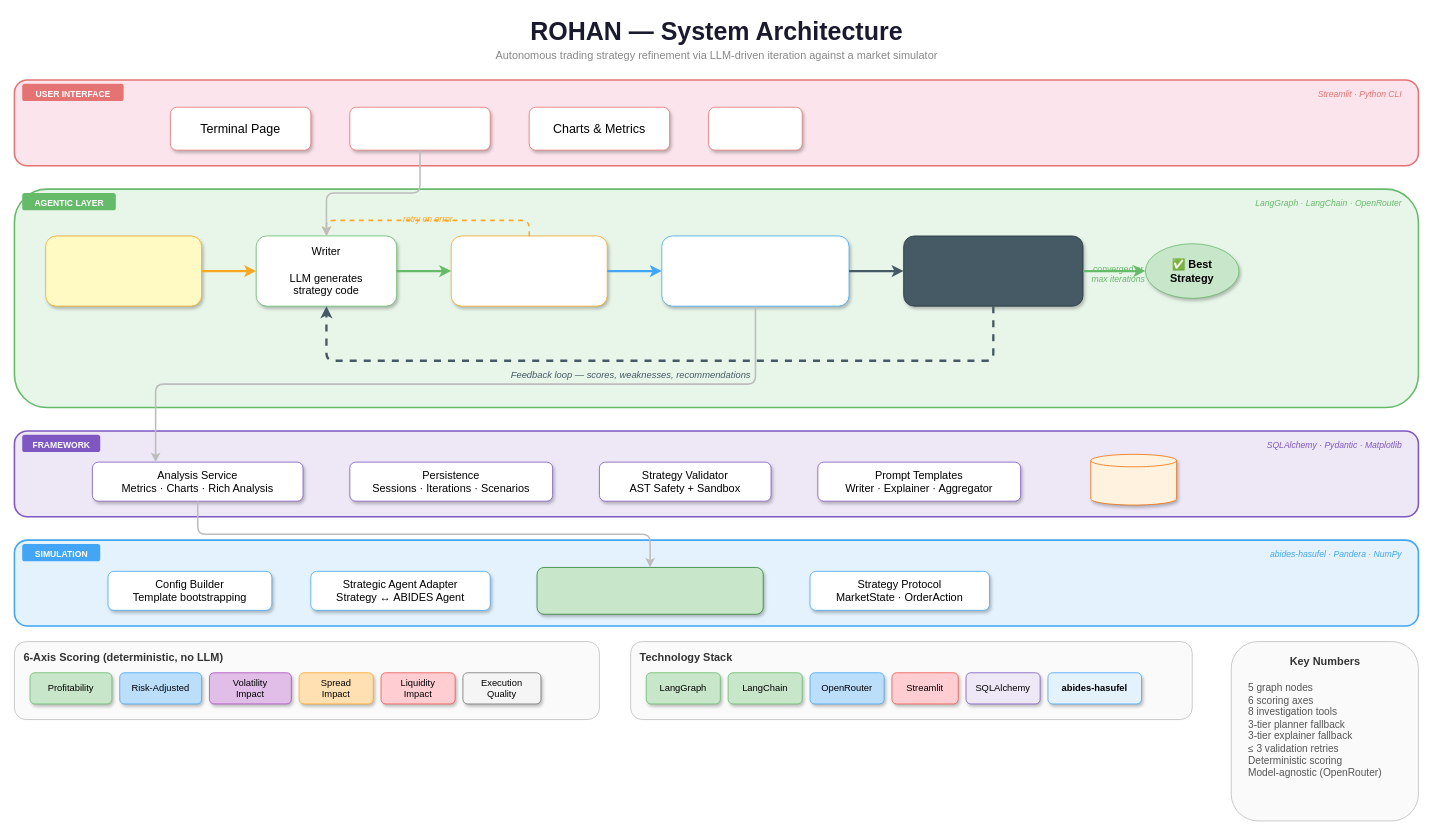
Image size: 1432x835. Some labels were removed from this diagram. Here are the shapes that lost their labels. From the top down, the centre of each, then its label:
At (420,129): "Refinement Lab".
At (756,129): "CLI".
At (124,272): "Planner Adversarial scenario generation (3-tier fallback)".
At (529,272): "Validator AST safety + sandbox execution (≤ 3 retries)".
At (756,272): "Execute & Explain Run simulation per scenario ReAct agent analyses results".
At (994,272): "Aggregator Deterministic 6-axis scoring Convergence detection".
At (1134,480): "SQLite / PostgreSQL".
At (650,592): "abides-hasufel v2.5.8 Discrete-event LOB simulation".
